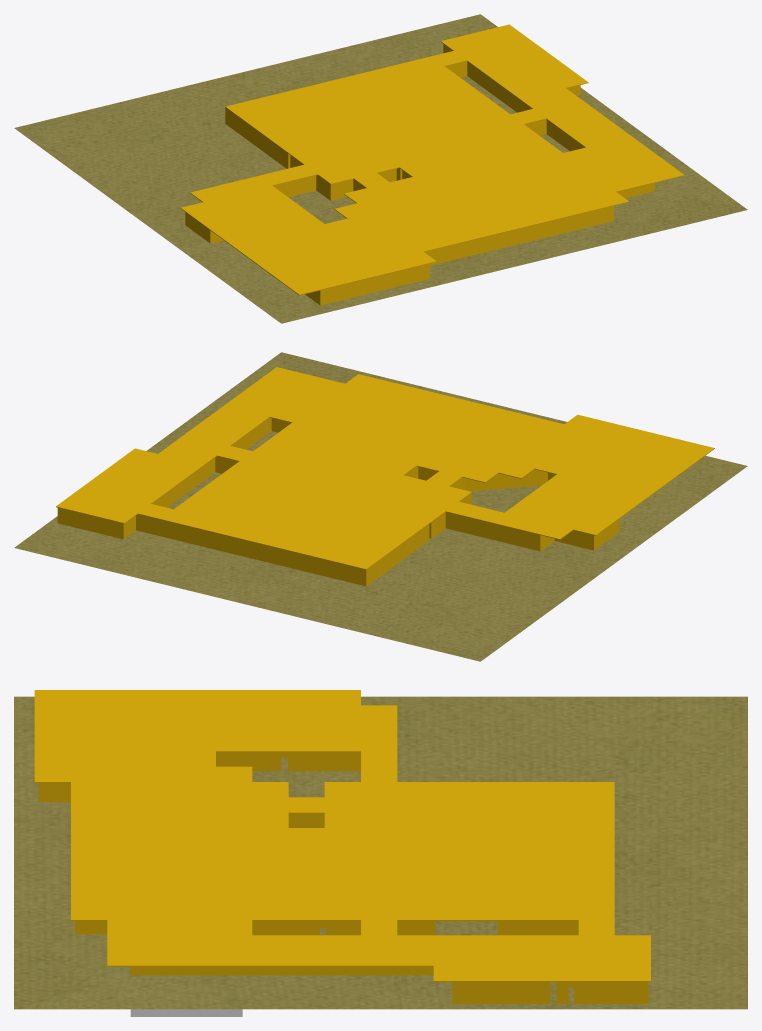
The model's file is GGE.fbx.
The picture shows the model from 3 angles, top to bottom: view 1: azimuth 30°, elevation 25°; view 2: azimuth 150°, elevation 25°; view 3: azimuth 270°, elevation 25°; orthographic projection. The views are drawn at different scales.
Visible parts, largest first — view 1: Plane, Cube.339, Cube.345, Cube.226, Cube.079, Cube.102; view 2: Plane, Cube.086, Cube.103, Cube.101, Cube.226, Cube.106, Cube.079, Cube.336; view 3: Plane, Cube.341, Cube.081, Cube.225, Cube.108, Cube.088, Cube.109, Cube.241, Cube.233, Cube.334, Cube.372, Cube.376 (+227 smaller).
Boxes of the visible parts, x1,y1,x2,y2 form: Plane: (14,14,747,323); Cube.339: (424,206,613,265); Cube.345: (320,263,429,305); Cube.226: (225,107,288,168); Cube.079: (467,61,531,112); Cube.102: (273,175,316,196); Plane: (14,352,747,661); Cube.086: (136,514,366,586); Cube.103: (445,512,540,551); Cube.101: (57,507,123,539); Cube.226: (366,524,429,586); Cube.106: (465,469,547,491); Cube.079: (152,457,215,507); Cube.336: (231,417,271,449); Plane: (14,696,747,1009); Cube.341: (130,966,433,975); Cube.081: (452,982,550,1003); Cube.225: (574,982,648,1003); Cube.108: (288,752,360,771); Cube.088: (497,921,578,935); Cube.109: (216,752,281,771); Cube.241: (252,921,319,935); Cube.233: (130,1009,242,1016); Cube.334: (38,783,70,802); Cube.372: (542,904,578,920); Cube.376: (542,965,578,981).
Size of what is drawn, in the model's own units: 11819 by 1150 by 11731.
